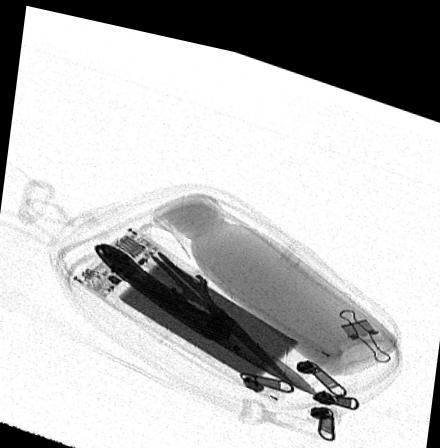Knife: (95, 239, 321, 382)
Powerbank: (64, 222, 337, 391)
Scissors: (110, 214, 302, 382)
